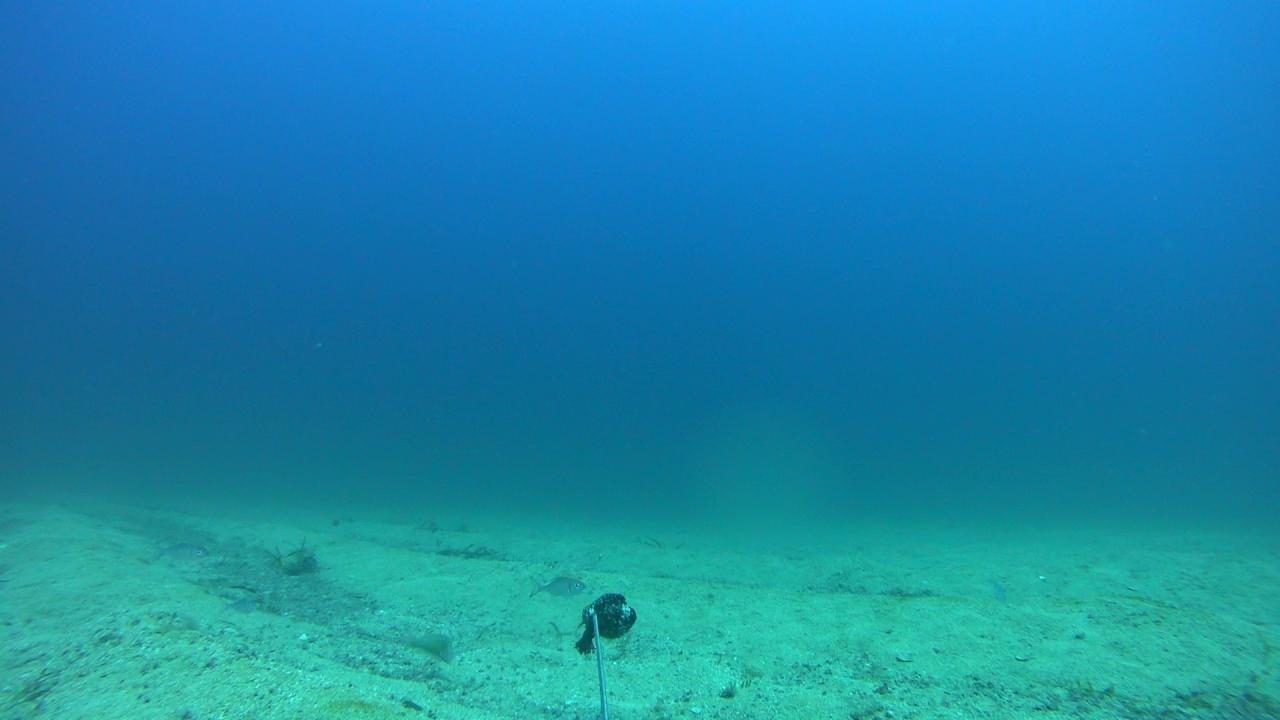myliobatis: (217, 591, 256, 620)
pagellus: (526, 573, 586, 600), (152, 543, 207, 559)
